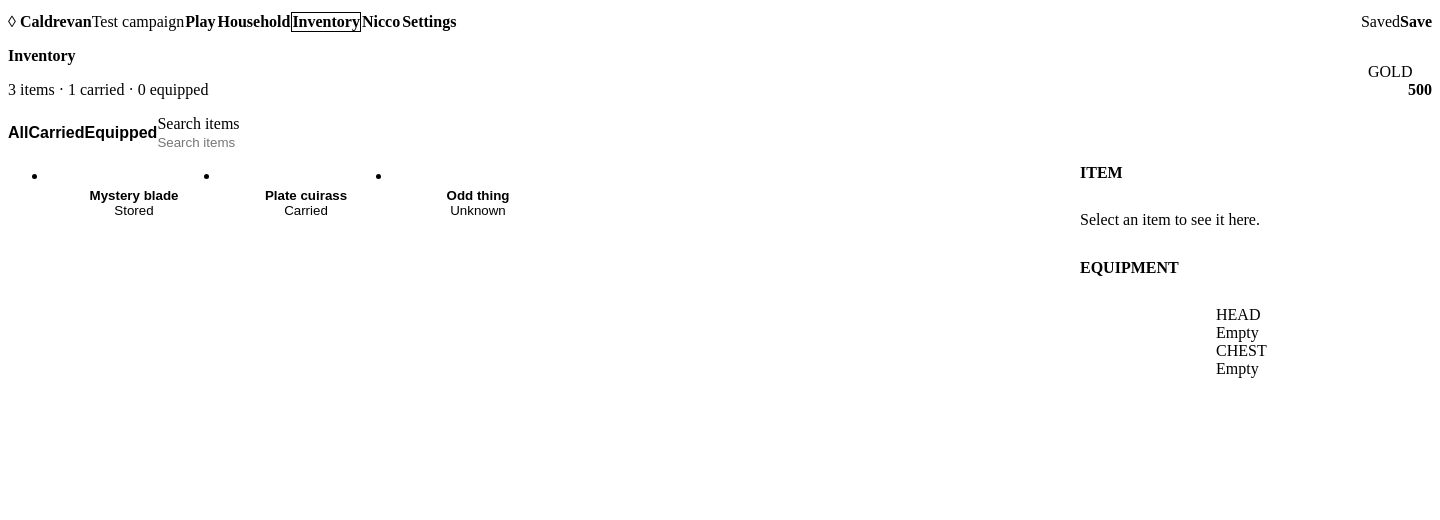
Scenario: Inventory page › UI2-3 reconstructs no engine rule: position, ownership and state come from fields, never from category or name
Expected: the heading "Inventory" is shown, x1=8 y1=47 x2=76 y2=64
Expected: the button with aria-label "Mystery blade, stored" is shown, x1=48 y1=181 x2=220 y2=225
Click the button "Equipped" at point(121, 133), box x1=84 y1=124 x2=157 y2=142
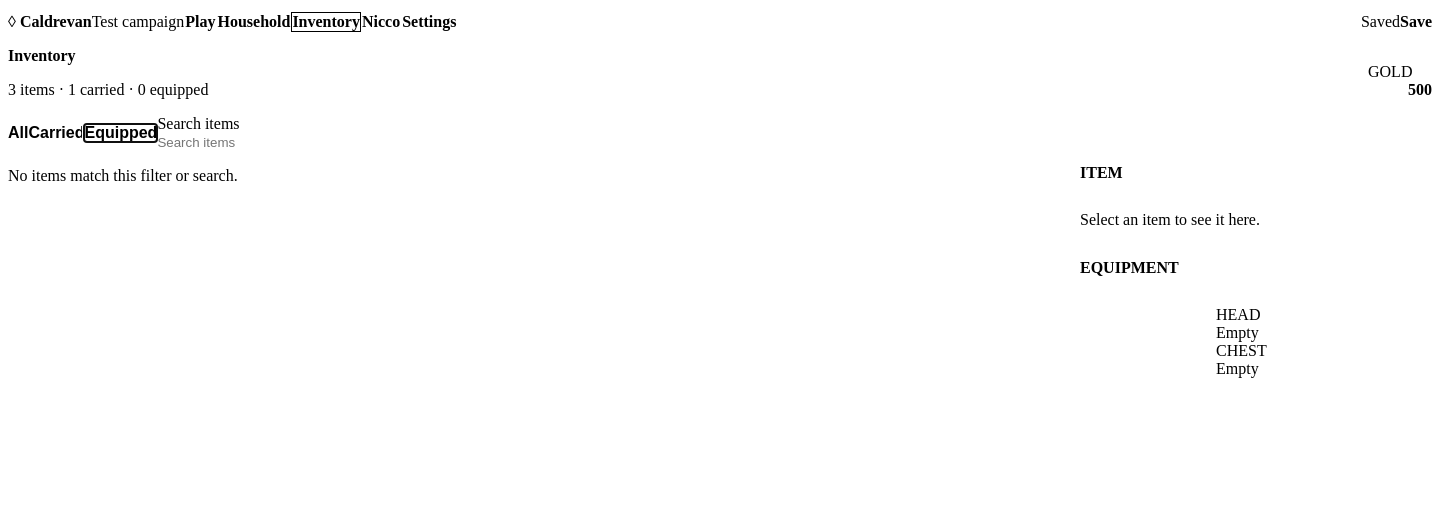
Now the text "No items match this filter or search." is shown, box x1=8 y1=167 x2=238 y2=184
Click the button "All" at point(18, 133), box x1=8 y1=124 x2=28 y2=142
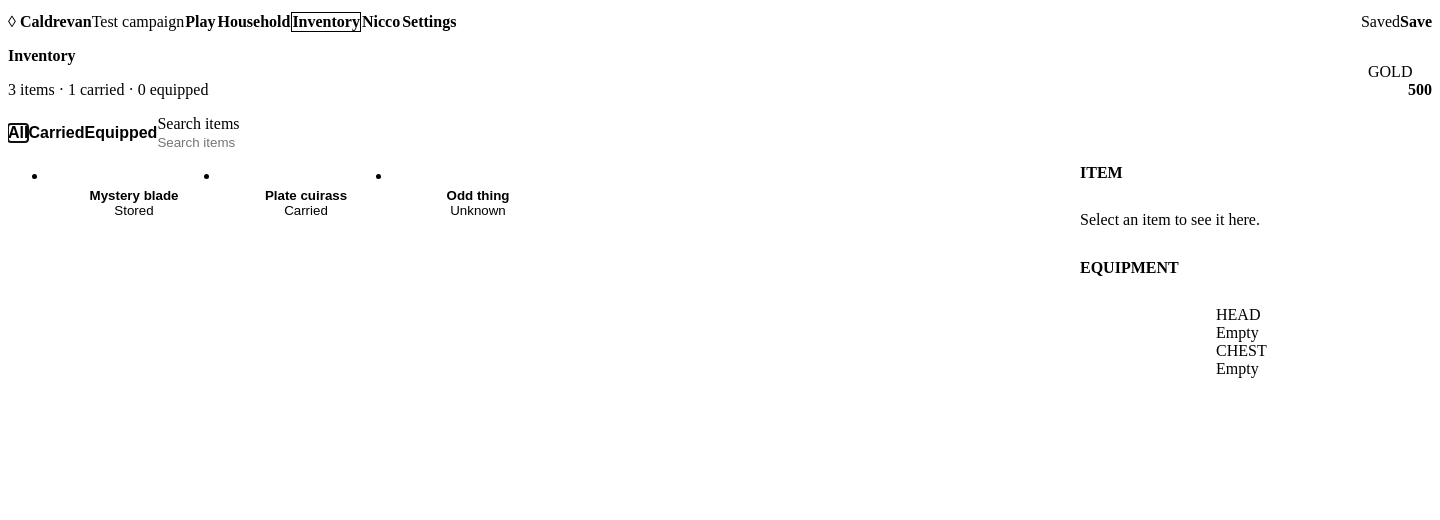
Click the button with aria-label "Mystery blade, stored" at point(134, 203), box x1=48 y1=181 x2=220 y2=225
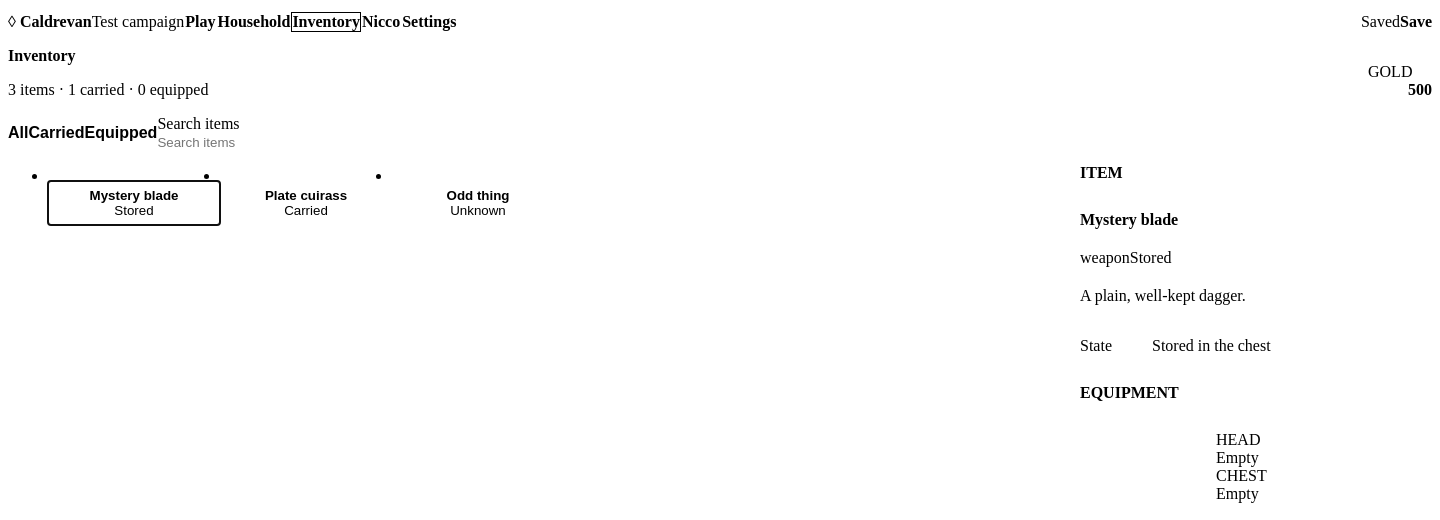
Now the element named "Item details" shows "Stored in the chest", box x1=1152 y1=337 x2=1271 y2=354
